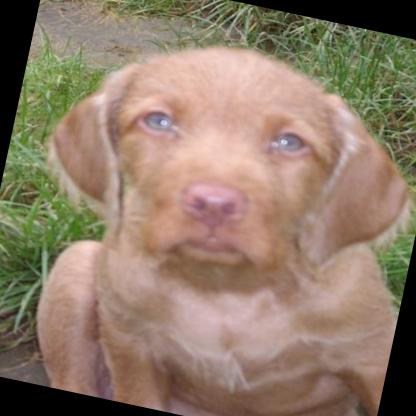vizsla: (0, 10, 416, 416)
